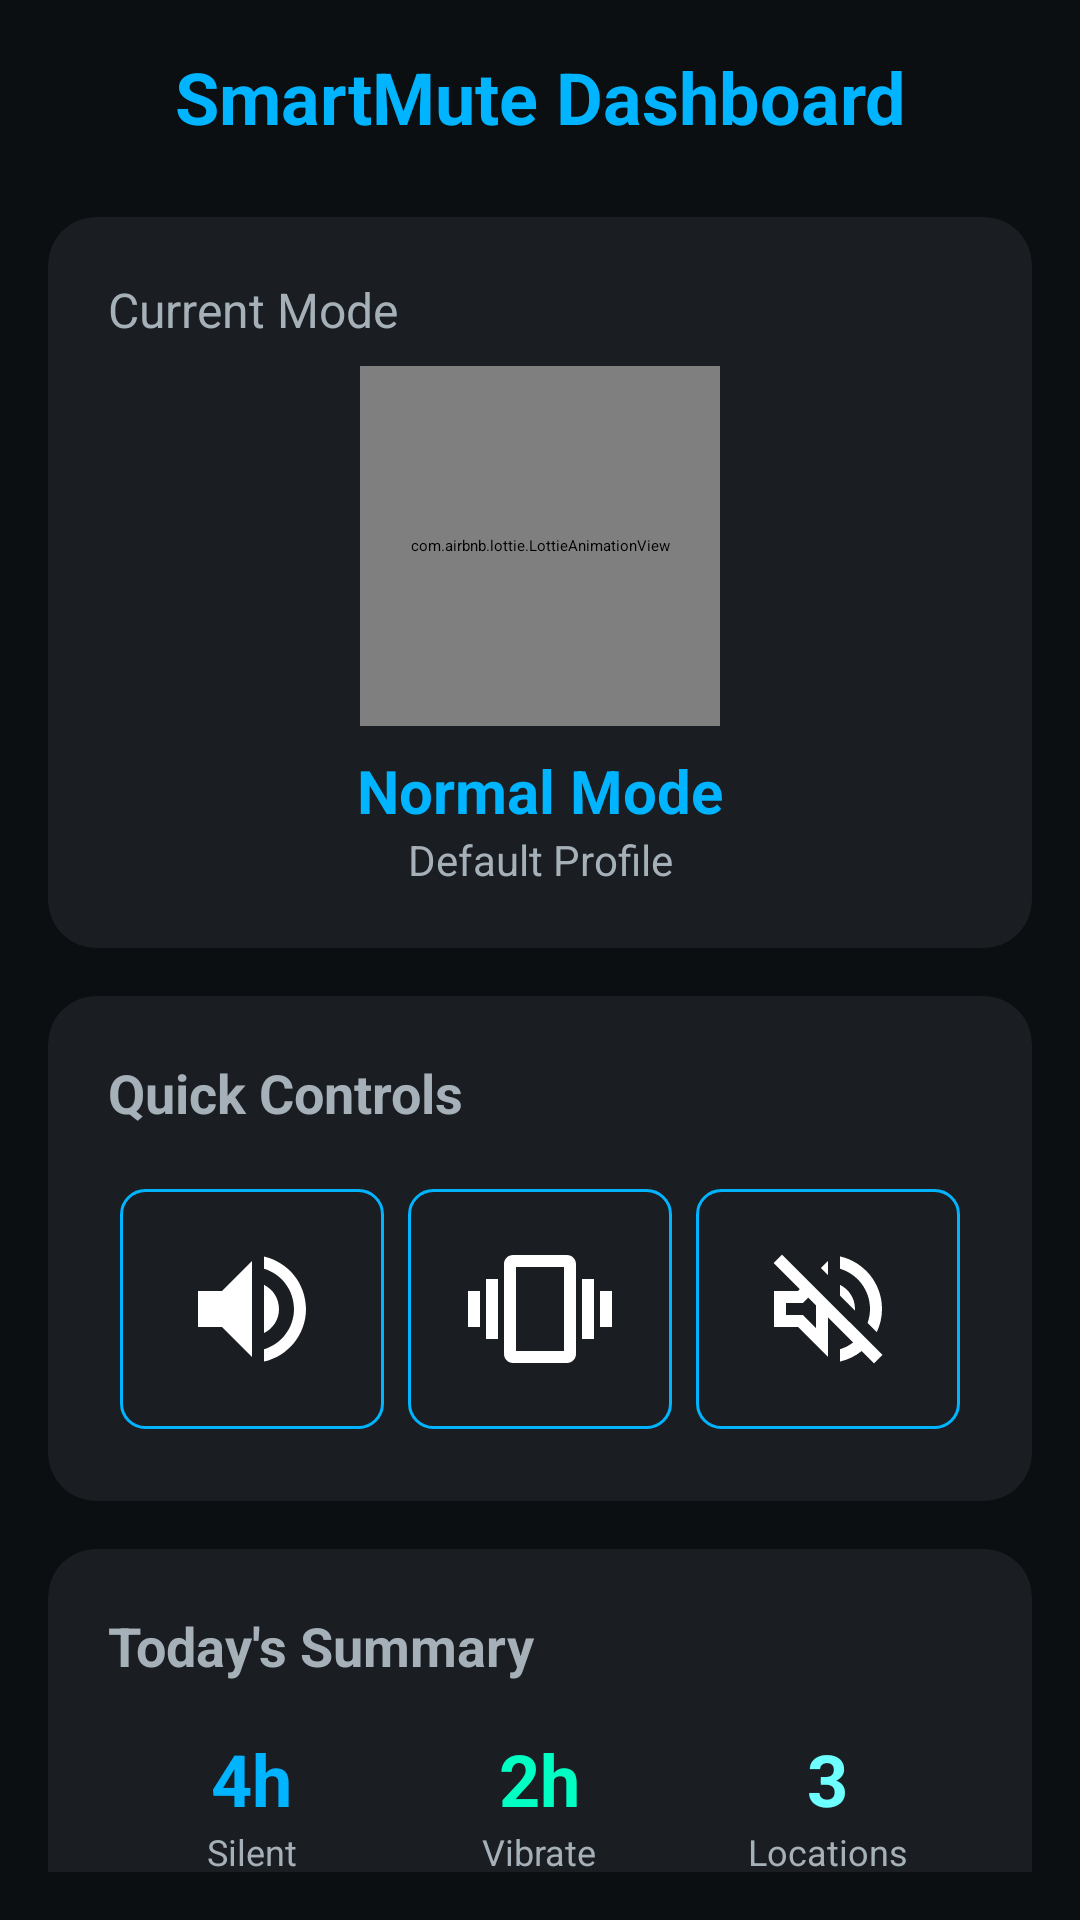

Screen size 1080w x 1920h. Icon name, then its box in pixels as detection(x1, y1, x2, y2):
silent mode: detection(696, 1189, 960, 1429)
vibrate mode: detection(408, 1189, 672, 1429)
